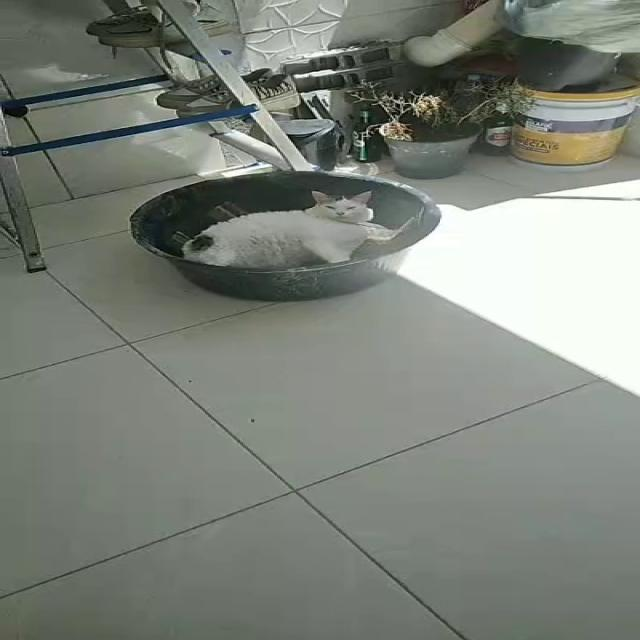Simba: (200, 186, 396, 278)
